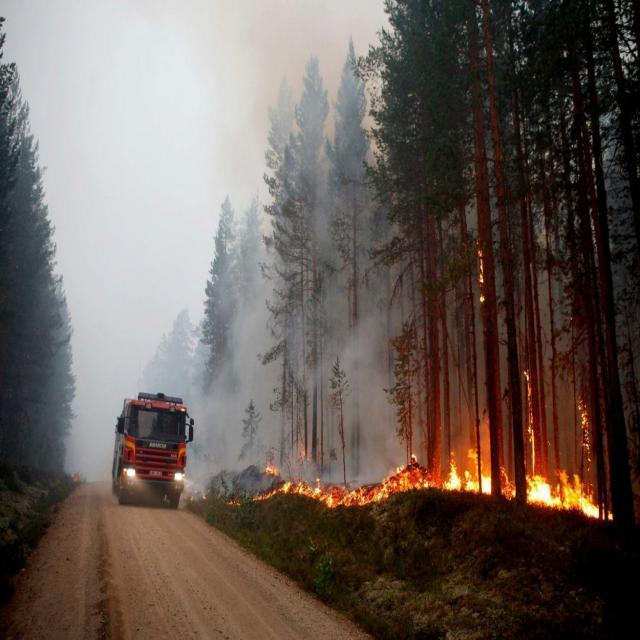Fire: (244, 423, 626, 538), (574, 400, 592, 456), (524, 367, 536, 422), (476, 235, 484, 288)
